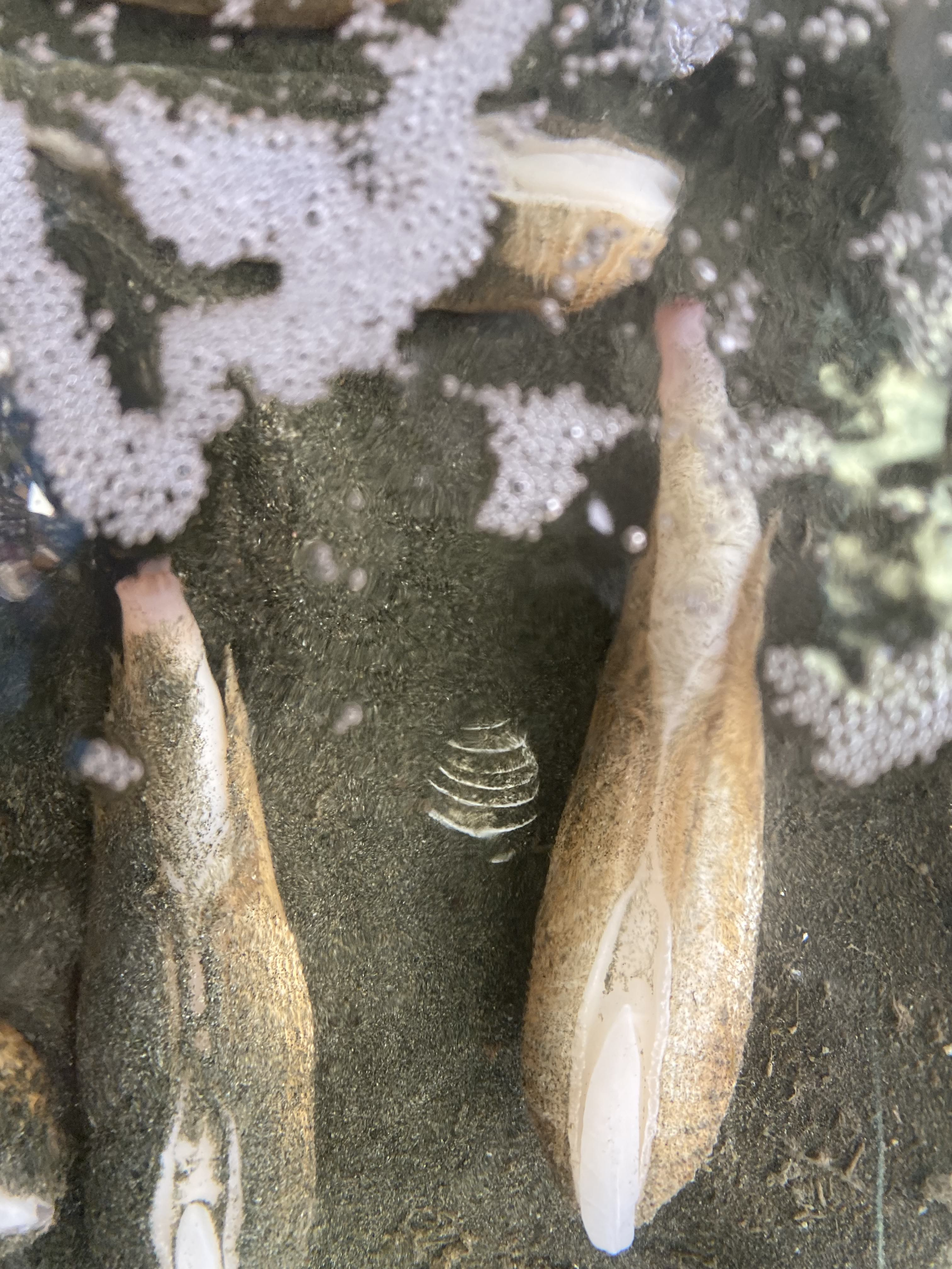Healthy: (523, 300, 774, 1254), (78, 559, 315, 1269)
